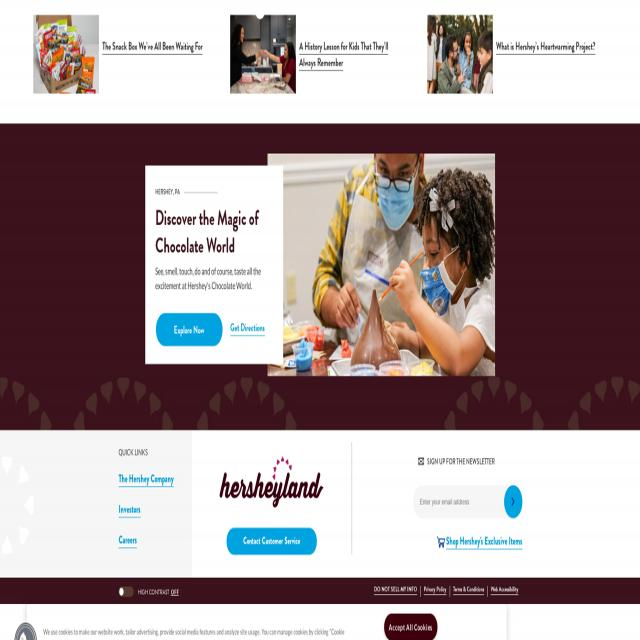button: (267, 153, 495, 376), (219, 454, 325, 509), (33, 15, 99, 94), (230, 15, 296, 94), (427, 15, 493, 94), (227, 528, 317, 554), (156, 313, 222, 346), (383, 613, 438, 640), (504, 485, 522, 518), (437, 536, 445, 548), (418, 458, 425, 465)
field: (413, 485, 513, 518), (118, 587, 134, 597)
